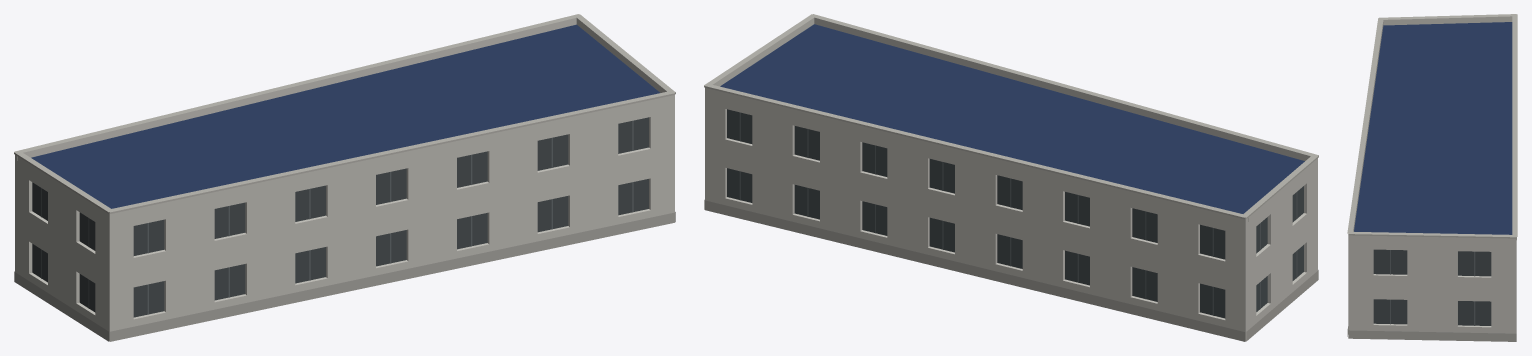
3 views of the same model, side by side, from view 1: azimuth 30°, elevation 25°; view 2: azimuth 150°, elevation 25°; view 3: azimuth 270°, elevation 25° (orthographic). The views are drawn at different scales.
Parts seen in each view (by area): view 1: east7394__wall, east7394__roof, east7394__glass, east7394__parapet, east7394__base, east7394__trim, east7394__frame; view 2: east7394__wall, east7394__roof, east7394__glass, east7394__parapet, east7394__base, east7394__trim, east7394__frame; view 3: east7394__roof, east7394__wall, east7394__trim, east7394__glass, east7394__parapet, east7394__base, east7394__frame.
Part boxes in pixels (box(x1,y1,x2,y2)): east7394__wall: box(15, 99, 674, 341); east7394__roof: box(31, 24, 659, 208); east7394__glass: box(32, 117, 648, 317); east7394__parapet: box(15, 17, 674, 218); east7394__base: box(14, 212, 675, 341); east7394__trim: box(14, 14, 675, 213); east7394__frame: box(41, 120, 633, 314); east7394__wall: box(705, 92, 1317, 341); east7394__roof: box(720, 24, 1304, 213); east7394__glass: box(727, 109, 1303, 318); east7394__parapet: box(705, 17, 1317, 223); east7394__base: box(704, 199, 1318, 341); east7394__trim: box(704, 14, 1318, 219); east7394__frame: box(739, 112, 1297, 315); east7394__roof: box(1354, 22, 1512, 234); east7394__wall: box(1348, 239, 1516, 333); east7394__trim: box(1347, 14, 1517, 238); east7394__glass: box(1373, 249, 1491, 325); east7394__parapet: box(1348, 16, 1516, 242); east7394__base: box(1347, 326, 1516, 341); east7394__frame: box(1390, 250, 1475, 325).
Size of the model in its own units: 34.72 by 7.6 by 11.19.
